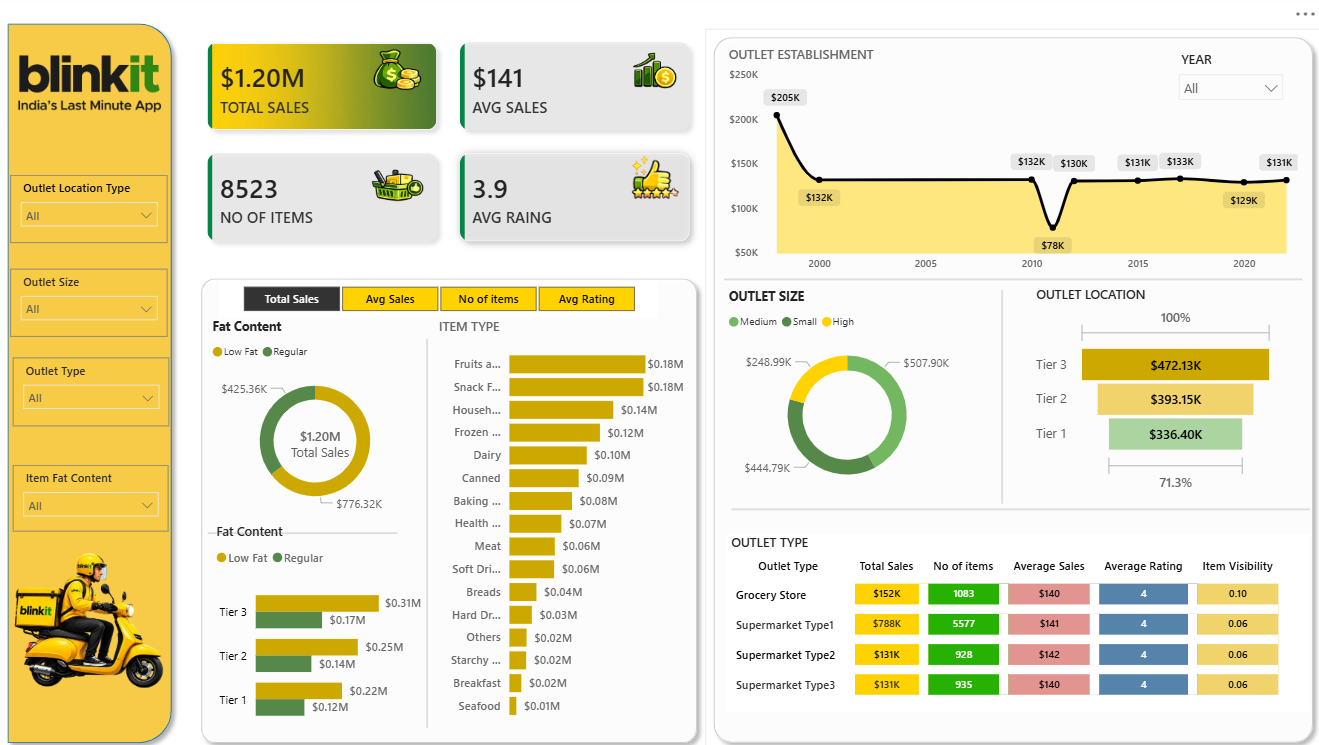

The dashboard page shown, as its layout file describes it:
{"tool":"powerbi","page":{"name":"Page 1","canvas":[1400,800],"ordinal":0},"visuals":[{"type":"shape","box":[0,20.5,191.8,779.5],"z":0},{"type":"cardVisual","fields":{"Data":["Sum(BlinkIT Grocery Data.Total Sales)","BlinkIT Grocery Data.Average Sales","BlinkIT Grocery Data.Number of items","BlinkIT Grocery Data.Average Rating"]},"box":[191.8,20.5,569.9,269.9],"z":1000},{"type":"shape","box":[205.5,290.4,542.5,509.6],"z":2000},{"type":"donutChart","title":"Fat Content","fields":{"Y":["BlinkIT Grocery Data.Total Sales"],"Category":["BlinkIT Grocery Data.Item Fat Content"]},"box":[220.5,341.1,227.4,216.4],"z":3000},{"type":"slicer","fields":{"Values":["Matrics.Matrics"]},"box":[232.9,301.4,464.4,39.7],"z":4000},{"type":"cardVisual","fields":{"Data":["BlinkIT Grocery Data.Total Sales"]},"box":[267.1,432.9,145.2,84.9],"z":5000},{"type":"clusteredBarChart","title":"Fat Content","fields":{"Y":["BlinkIT Grocery Data.Total Sales"],"Category":["BlinkIT Grocery Data.Outlet Location Type"],"Series":["BlinkIT Grocery Data.Item Fat Content"]},"box":[224.9,558.2,227.5,230.2],"z":7000},{"type":"shape","box":[220.9,531.7,201.1,75.4],"z":8000},{"type":"shape","box":[415.1,364.4,75.3,412.3],"z":9000},{"type":"barChart","title":"ITEM TYPE","fields":{"Y":["BlinkIT Grocery Data.Total Sales"],"Category":["BlinkIT Grocery Data.Item Type"]},"box":[460.3,341.1,269.9,435.6],"z":10000},{"type":"shape","box":[747.9,35.6,652.1,764.4],"z":11000},{"type":"lineChart","title":"OUTLET ESTABLISHMENT","fields":{"Y":["Sum(BlinkIT Grocery Data.Total Sale)"],"Category":["BlinkIT Grocery Data.Outlet Establishment Year"]},"box":[767.1,53.4,612.3,247.9],"z":12000},{"type":"shape","box":[767.1,263,612.3,75.3],"z":13000},{"type":"donutChart","title":"OUTLET SIZE","fields":{"Y":["BlinkIT Grocery Data.Total Sales"],"Category":["BlinkIT Grocery Data.Outlet Size"]},"box":[767.1,309.6,261,225],"z":14000},{"type":"funnel","title":"OUTLET LOCATION","fields":{"Category":["BlinkIT Grocery Data.Outlet Location Type"],"Y":["BlinkIT Grocery Data.Total Sales"]},"box":[1092.3,306.8,261.6,224.7],"z":15000},{"type":"shape","box":[1024.4,312.3,75.3,226],"z":16000},{"type":"shape","box":[775.6,507.1,612.3,75.3],"z":17000},{"type":"pivotTable","title":"OUTLET TYPE","fields":{"Rows":["BlinkIT Grocery Data.Outlet Type"],"Values":["BlinkIT Grocery Data.Total Sales","BlinkIT Grocery Data.No of items","BlinkIT Grocery Data.Average Sales","BlinkIT Grocery Data.Average Rating","Avg(BlinkIT Grocery Data.Item Visibility)"]},"box":[769.9,569.9,617.8,187.7],"z":18000},{"type":"slicer","fields":{"Values":["BlinkIT Grocery Data.Outlet Location Type"]},"box":[12,190.6,166.6,72],"z":19000},{"type":"slicer","fields":{"Values":["BlinkIT Grocery Data.Outlet Size"]},"box":[12,289.7,166.6,72],"z":20000},{"type":"slicer","fields":{"Values":["BlinkIT Grocery Data.Outlet Type"]},"box":[15.1,383.6,165.8,72.6],"z":21000},{"type":"image","box":[11.9,31.7,165.3,124.3],"z":22000},{"type":"slicer","fields":{"Values":["BlinkIT Grocery Data.Item Fat Content"]},"box":[15,496.8,165.1,70.5],"z":23000},{"type":"image","box":[392.9,52.9,58.2,56.9],"z":24000},{"type":"image","box":[664,52.9,56.9,56.9],"z":25000},{"type":"image","box":[392.9,170.6,58.2,62.2],"z":26000},{"type":"image","box":[664,164,56.9,62.2],"z":27000},{"type":"image","box":[10.6,570.1,178.6,194.4],"z":28000},{"type":"slicer","title":"YEAR","fields":{"Values":["BlinkIT Grocery Data.Outlet Establishment Year"]},"box":[1238.2,54,130.6,57],"z":29000}]}

Visuals, with their boxes in screenshot pixels (x1, y1, x2, y2), scaled from the page's 1400x800 canvas onto the 1319x745 screenshot:
shape: (0,19,181,744)
cardVisual - Sum(BlinkIT Grocery Data.Total Sales) x BlinkIT Grocery Data.Average Sales: (181,19,718,270)
shape: (194,270,705,744)
"Fat Content" donutChart: (208,318,422,519)
slicer - Matrics.Matrics: (219,281,657,318)
cardVisual - BlinkIT Grocery Data.Total Sales: (252,403,388,482)
"Fat Content" clusteredBarChart: (212,520,426,734)
shape: (208,495,398,565)
shape: (391,339,462,723)
"ITEM TYPE" barChart: (434,318,688,723)
shape: (705,33,1318,744)
"OUTLET ESTABLISHMENT" lineChart: (723,50,1300,281)
shape: (723,245,1300,315)
"OUTLET SIZE" donutChart: (723,288,969,498)
"OUTLET LOCATION" funnel: (1029,286,1276,495)
shape: (965,291,1036,501)
shape: (731,472,1308,542)
"OUTLET TYPE" pivotTable: (725,531,1307,706)
slicer - BlinkIT Grocery Data.Outlet Location Type: (11,177,168,245)
slicer - BlinkIT Grocery Data.Outlet Size: (11,270,168,337)
slicer - BlinkIT Grocery Data.Outlet Type: (14,357,170,425)
image: (11,30,167,145)
slicer - BlinkIT Grocery Data.Item Fat Content: (14,463,170,528)
image: (370,49,425,102)
image: (626,49,679,102)
image: (370,159,425,217)
image: (626,153,679,211)
image: (10,531,178,712)
"YEAR" slicer: (1167,50,1290,103)
